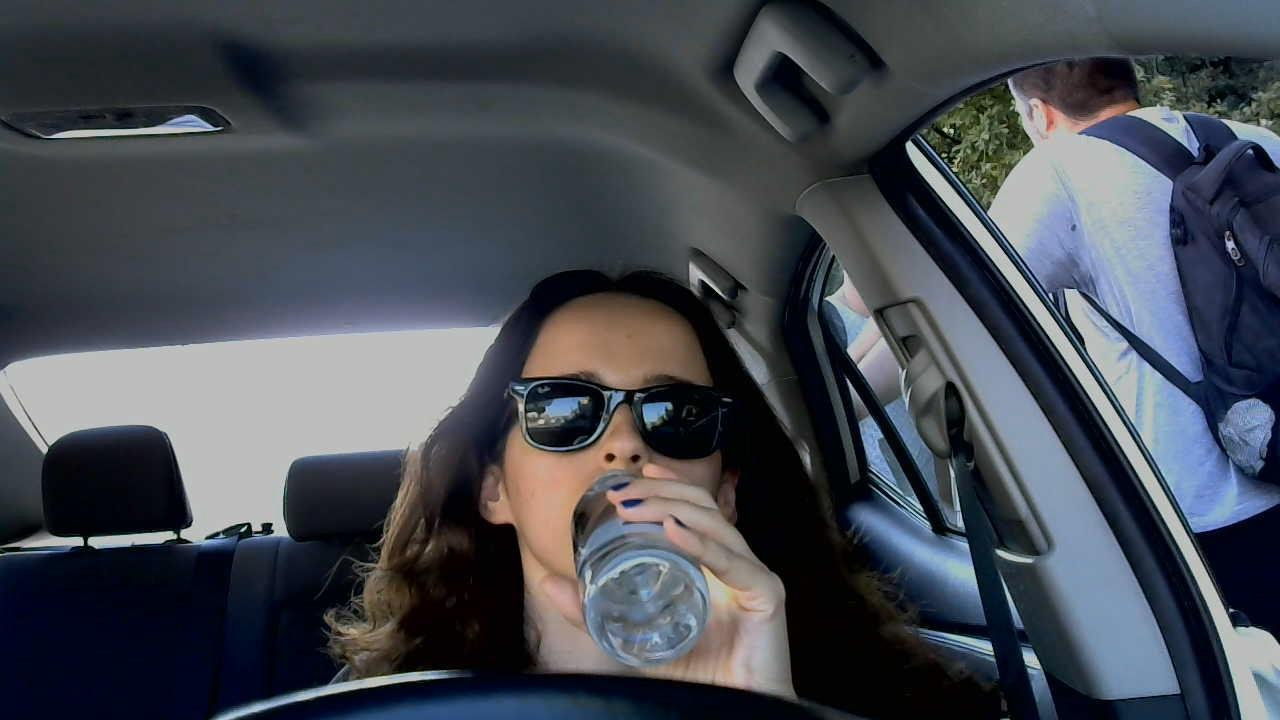Drinking: (477, 293, 782, 666)
